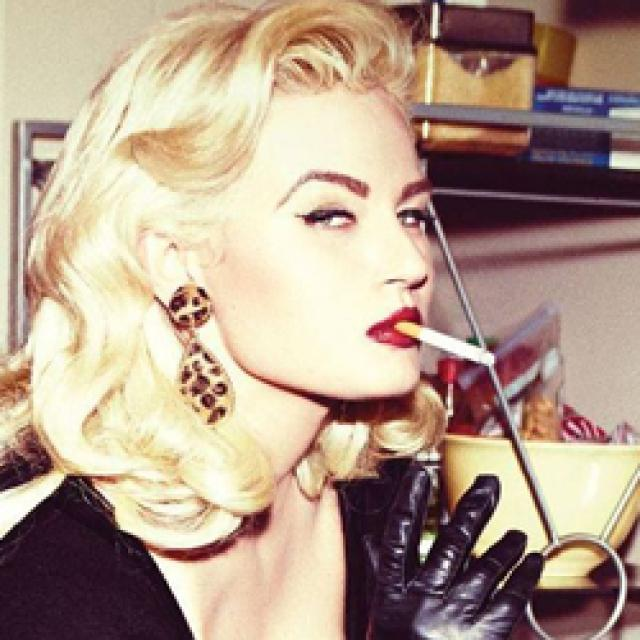Smooking: (387, 309, 505, 380)
